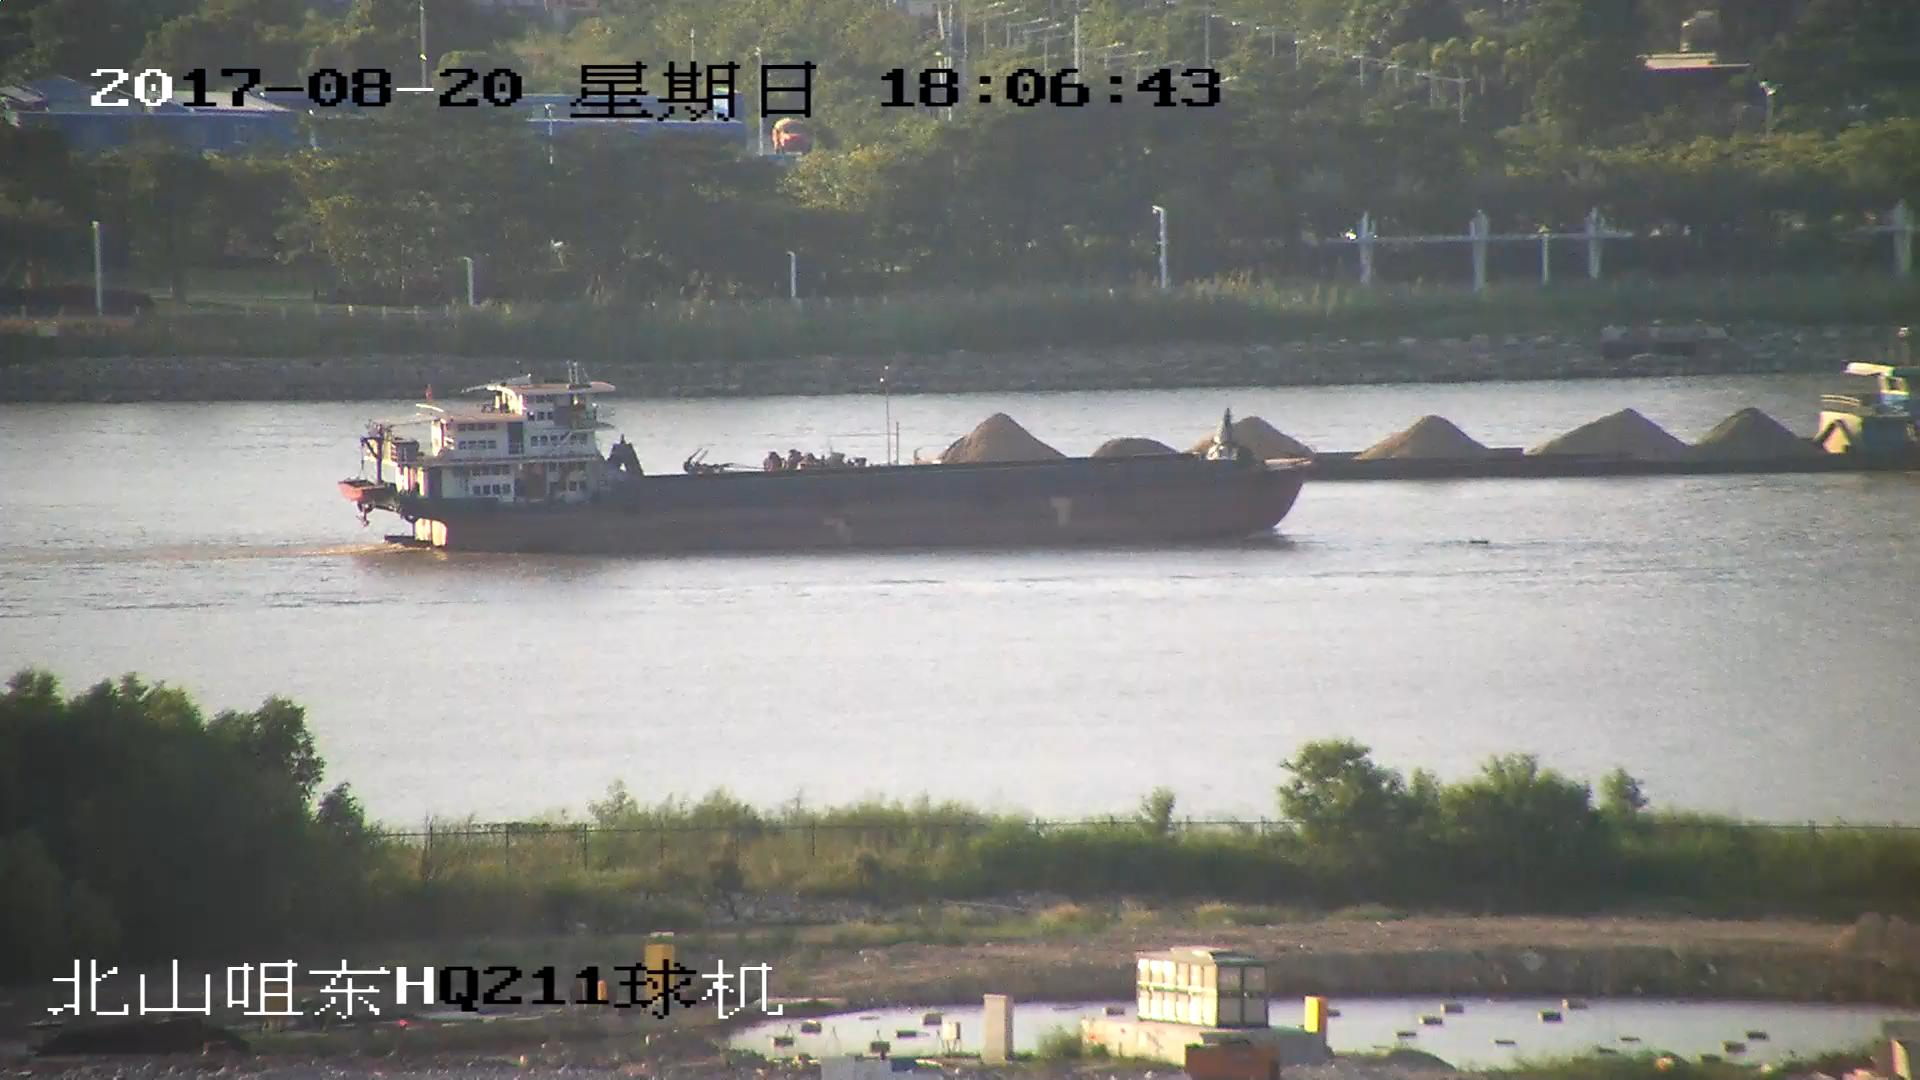bulk cargo carrier: (335, 380, 1316, 559)
ore carrier: (667, 365, 1920, 479)
